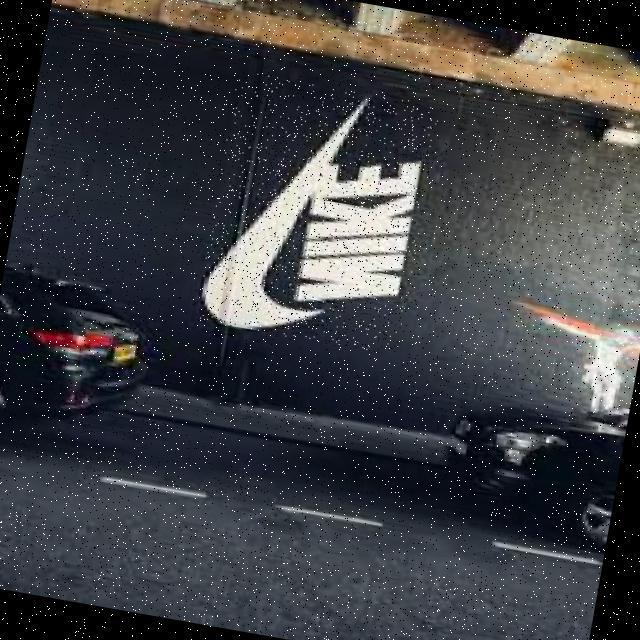Nike: (194, 71, 441, 357)
